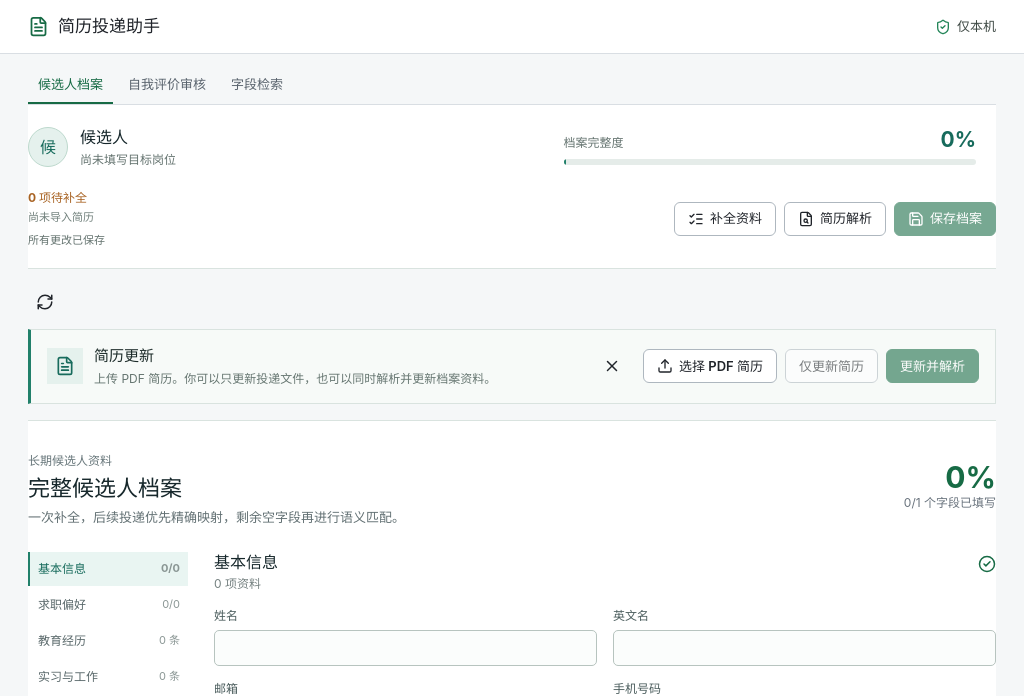
Test: self-evaluation review view › rejects a review response for the wrong task without rendering it
What coordinates should you click on to do the following:
click the button "自我评价审核"
I would click on:
 (167, 86)
Its box is [118,68,216,104].
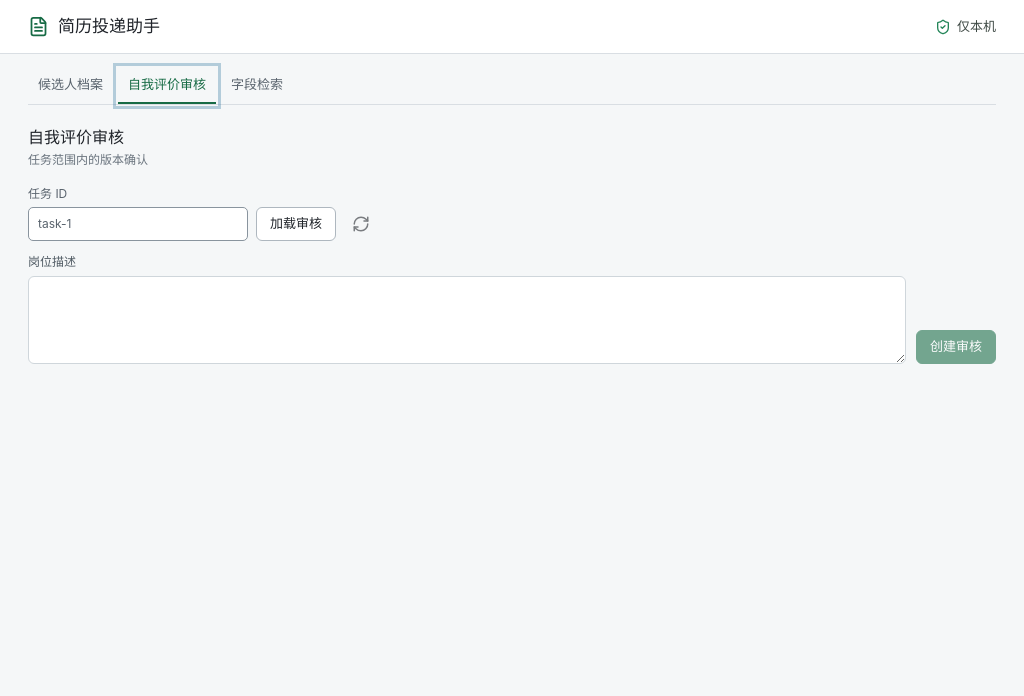
What coordinates should you click on to do the following:
click the button "加载审核"
I would click on:
 (296, 224)
Its box is [256,207,336,241].
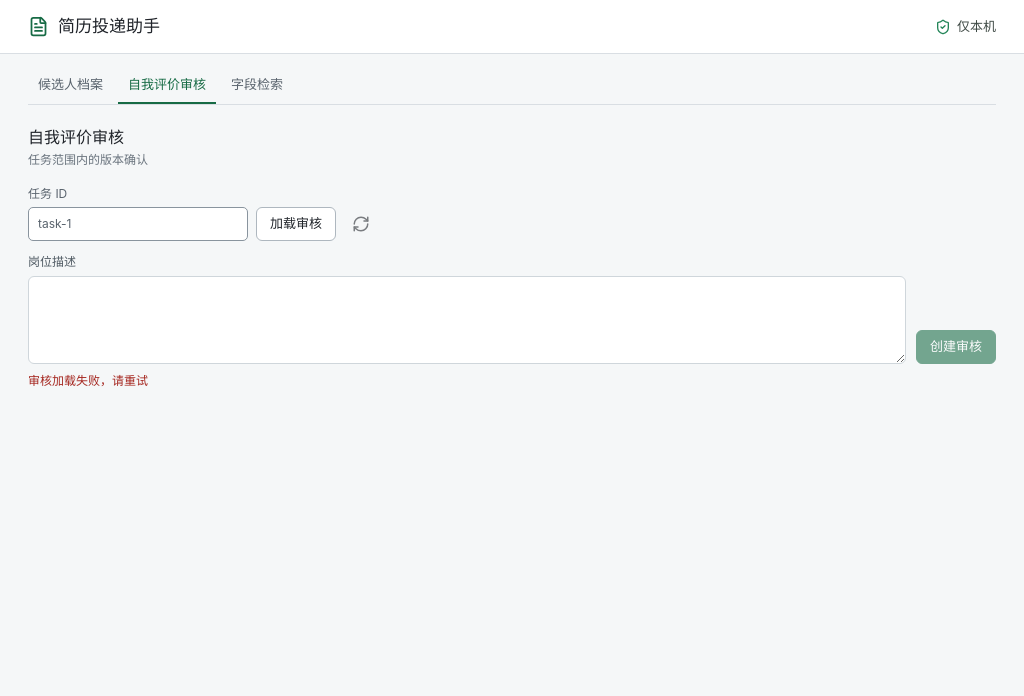
expect the message shows "审核加载失败": met, box [28,373,148,388]
